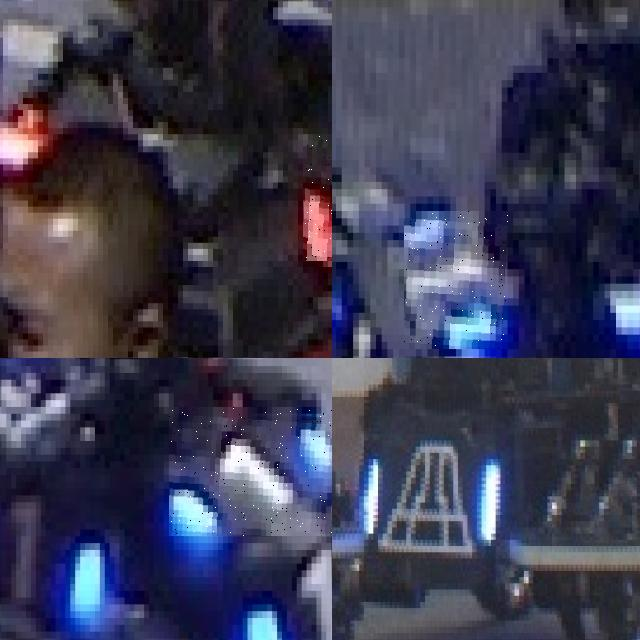B1: (168, 406, 332, 536), (0, 475, 109, 631), (404, 211, 508, 349), (242, 536, 332, 640)
R4: (303, 134, 332, 261)
